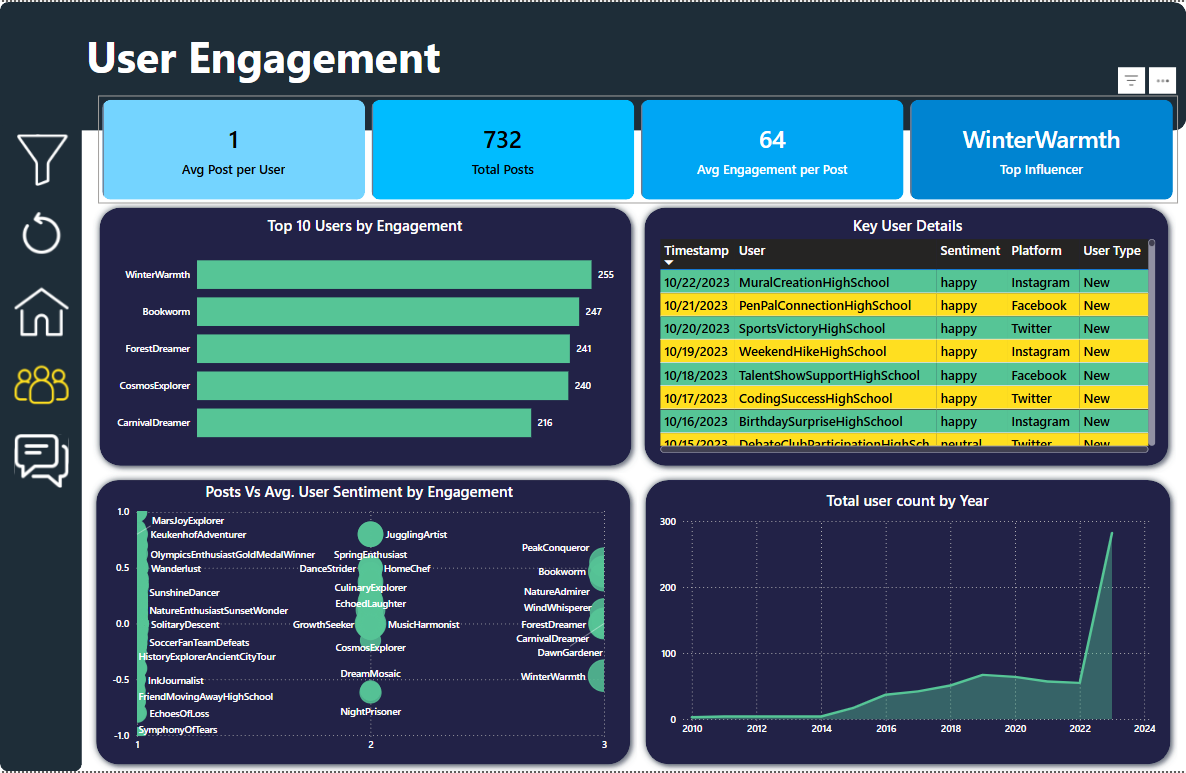

This screenshot's page, from the dashboard's own definition file:
{"tool":"powerbi","page":{"name":"User Engagement","canvas":[1480,960],"ordinal":1},"visuals":[{"type":"shape","box":[115.7,247.2,681.5,340],"z":0},{"type":"actionButton","box":[8.5,348.5,86.8,75.4],"z":0,"group":"g1"},{"type":"shape","box":[0,0,102.2,960.1],"z":1000},{"type":"actionButton","box":[8.5,439.5,86.8,75.4],"z":1000,"group":"g1"},{"type":"shape","box":[0,0,1480.3,160.6],"z":2000},{"type":"actionButton","box":[8.5,534.8,86.8,75.4],"z":2000,"group":"g1"},{"type":"cardVisual","fields":{"Data":["DAX calculations.Avg Post per User","DAX calculations.Total Posts","DAX calculations.Avg Engagement per Post","DAX calculations.Top Influencer"]},"box":[122.3,116.6,1347,135.1],"z":3000},{"type":"textbox","box":[102.9,25.7,490,91.4],"z":4000},{"type":"clusteredBarChart","title":"Top 10 Users by Engagement","fields":{"Category":["Posts.User"],"Y":["DAX calculations.User Engagement"]},"box":[137.2,265.7,637.2,301.5],"z":5000},{"type":"shape","box":[111.4,587.2,684.4,372.9],"z":6000},{"type":"scatterChart","title":"Posts Vs Avg. User Sentiment by Engagement","fields":{"Category":["Posts.User"],"X":["DAX calculations.Total Posts"],"Y":["DAX calculations.Avg Sentiment Score"],"Size":["Sum(Posts.Total Engagement)"]},"box":[134.3,597.2,628.6,347.2],"z":7000},{"type":"shape","box":[796.5,587.4,672.8,372.7],"z":8000},{"type":"shape","box":[795.8,247.2,671.5,340],"z":9000},{"type":"tableEx","title":"Key User Details","fields":{"Values":["Posts.Timestamp","Posts.User","Posts.Sentiment","Posts.Platform","Posts.User Type"]},"box":[817.2,265.7,628.6,301.5],"z":10000},{"type":"areaChart","fields":{"Category":["Dates.Date Hierarchy.Year","Dates.Date Hierarchy.Month-Year","Dates.Date Hierarchy.Start of Month"],"Y":["DAX calculations.Total user count"]},"box":[817.9,608.8,628.7,315.8],"z":11000},{"type":"group","id":"g1","title":"Group 1","box":[8.5,348.5,86.8,261.7],"z":12000},{"type":"actionButton","box":[2.8,160.7,101,72.5],"z":12500},{"type":"actionButton","box":[1.4,251.8,101,72],"z":12750}]}

Visuals, with their boxes on the page's 1480x960 design canvas (x1, y1, x2, y2). These are canvas units, not pixel positions in the 1186x773 screenshot, which may show the page scaled, cropped or inside an application window:
shape: {"x1": 116, "y1": 247, "x2": 797, "y2": 587}
actionButton: {"x1": 8, "y1": 348, "x2": 95, "y2": 424}
shape: {"x1": 0, "y1": 0, "x2": 102, "y2": 960}
actionButton: {"x1": 8, "y1": 440, "x2": 95, "y2": 515}
shape: {"x1": 0, "y1": 0, "x2": 1480, "y2": 161}
actionButton: {"x1": 8, "y1": 535, "x2": 95, "y2": 610}
cardVisual - DAX calculations.Avg Post per User x DAX calculations.Total Posts: {"x1": 122, "y1": 117, "x2": 1469, "y2": 252}
textbox: {"x1": 103, "y1": 26, "x2": 593, "y2": 117}
"Top 10 Users by Engagement" clusteredBarChart: {"x1": 137, "y1": 266, "x2": 774, "y2": 567}
shape: {"x1": 111, "y1": 587, "x2": 796, "y2": 960}
"Posts Vs Avg. User Sentiment by Engagement" scatterChart: {"x1": 134, "y1": 597, "x2": 763, "y2": 944}
shape: {"x1": 796, "y1": 587, "x2": 1469, "y2": 960}
shape: {"x1": 796, "y1": 247, "x2": 1467, "y2": 587}
"Key User Details" tableEx: {"x1": 817, "y1": 266, "x2": 1446, "y2": 567}
areaChart - Dates.Date Hierarchy.Year x Dates.Date Hierarchy.Month-Year: {"x1": 818, "y1": 609, "x2": 1447, "y2": 925}
"Group 1" group: {"x1": 8, "y1": 348, "x2": 95, "y2": 610}
actionButton: {"x1": 3, "y1": 161, "x2": 104, "y2": 233}
actionButton: {"x1": 1, "y1": 252, "x2": 102, "y2": 324}
